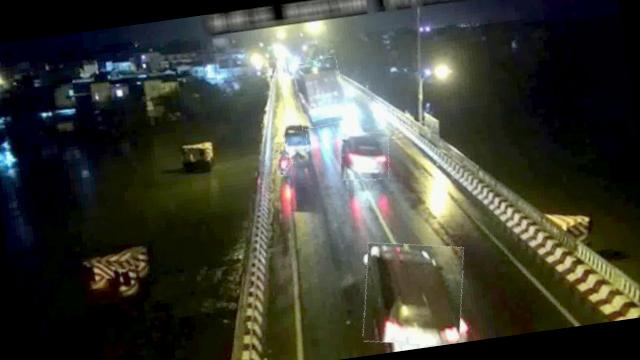Bike: (274, 141, 296, 176)
Car: (354, 234, 472, 352), (336, 128, 392, 183), (280, 118, 309, 164)
Truck: (289, 56, 349, 129)
